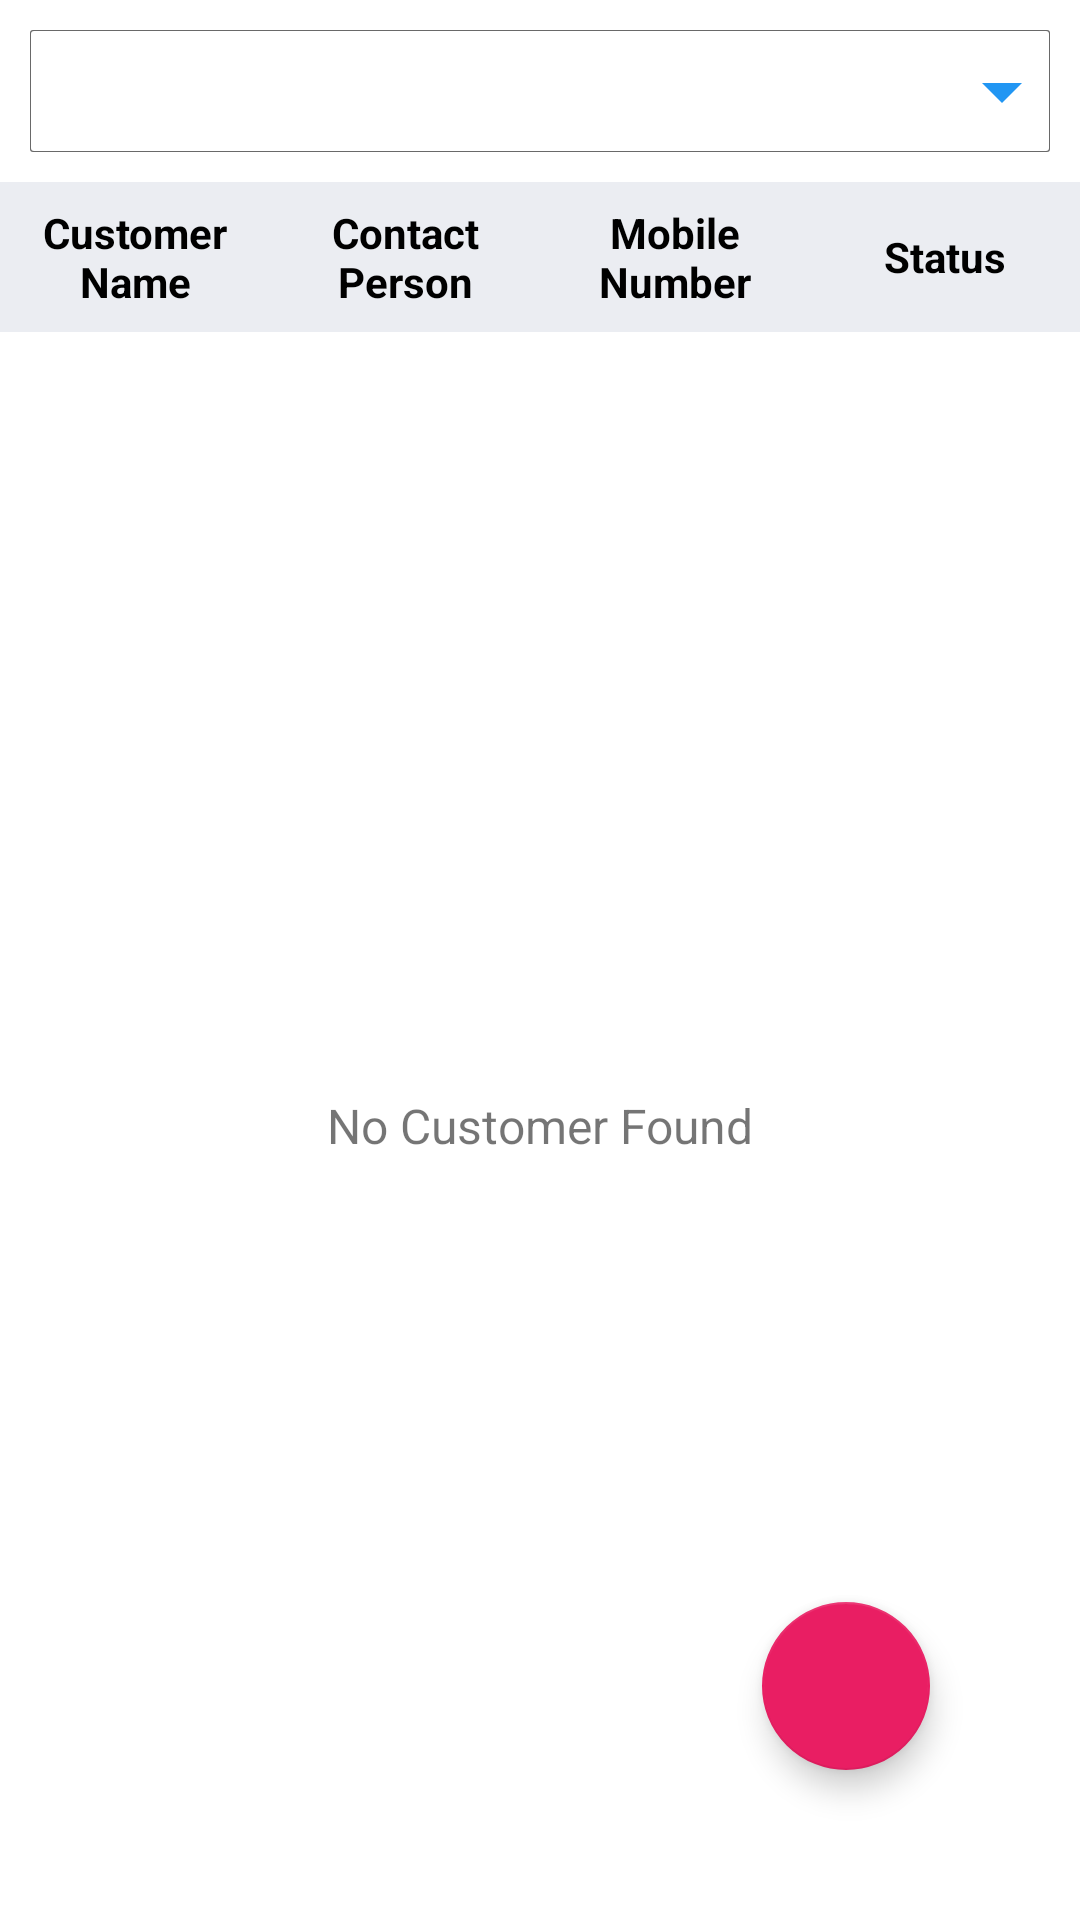

Point at icon controls on the screen. Image size 1080x1920, points as (x,y).
arrow drop down: (1002,93)
